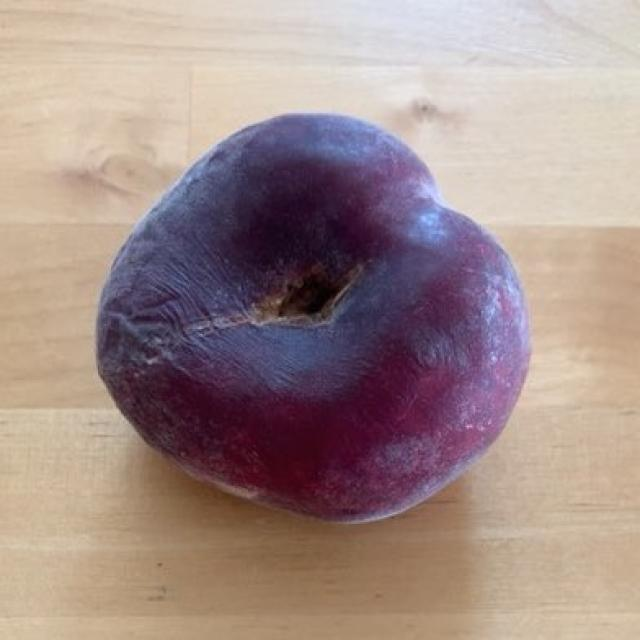peach: (97, 117, 522, 512)
